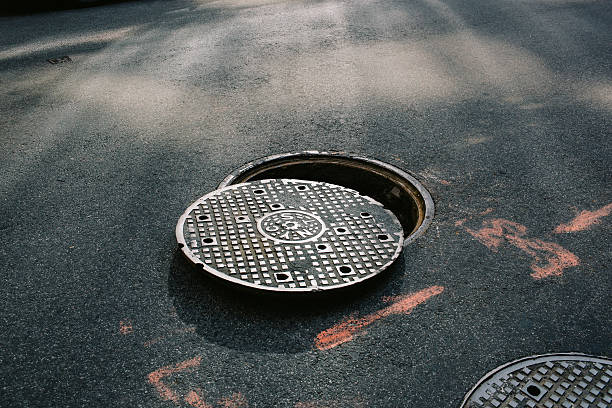open_manhole: (254, 145, 432, 220)
